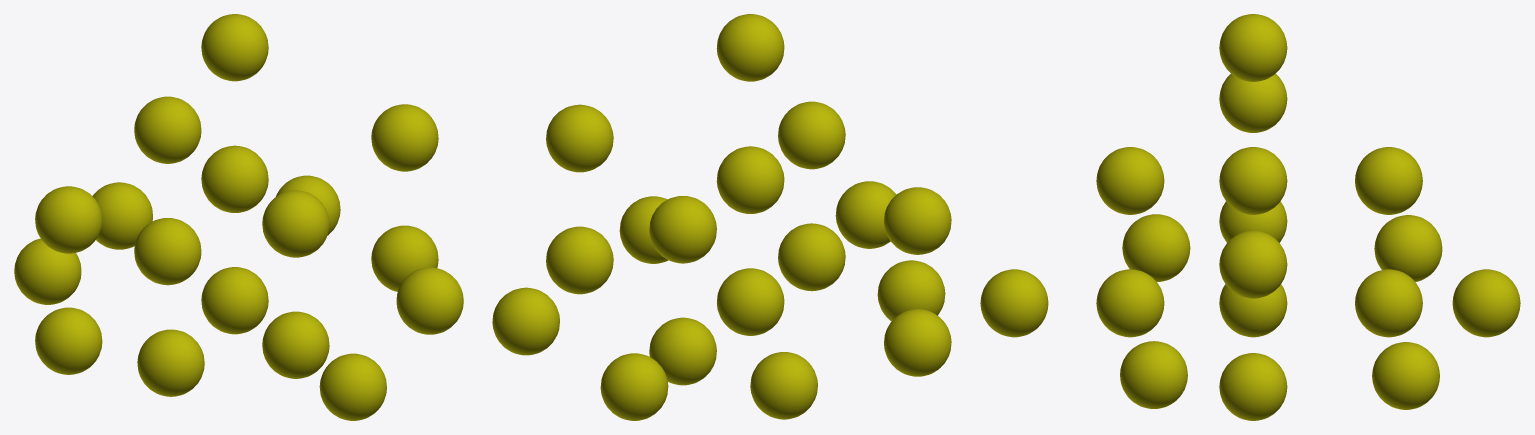
The model's file is seed.fbx.
The picture shows the model from 3 angles, left to right: view 1: azimuth 30°, elevation 25°; view 2: azimuth 150°, elevation 25°; view 3: azimuth 270°, elevation 25°; orthographic projection.
Parts seen in each view (by area): view 1: Sphere003; view 2: Sphere003; view 3: Sphere003.
Part boxes in pixels (bbox=[...]): Sphere003: bbox=[14, 14, 463, 420]; Sphere003: bbox=[492, 14, 951, 420]; Sphere003: bbox=[980, 14, 1520, 420].
Bounding box in the file's own units: 141 × 107 × 166.
